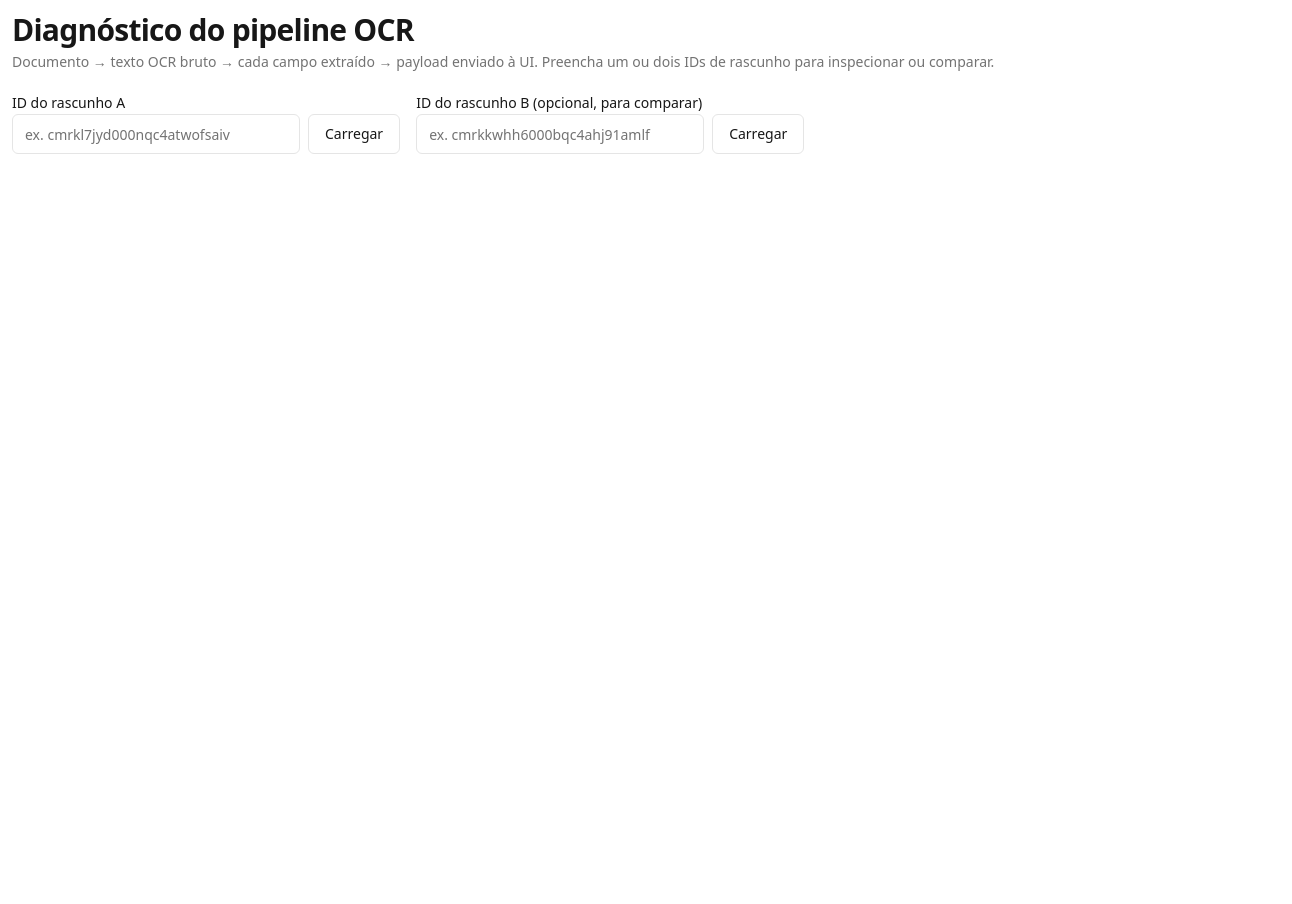
InvoiceDraftDebugPage (Fase 6.8+) › carrega e mostra o pipeline completo para um rascunho ao introduzir o ID
Type "draft-1" into the field with placeholder "ex. cmrkl7jyd000nqc4atwofsaiv". click: (156, 134)
box: [12,114,300,154]
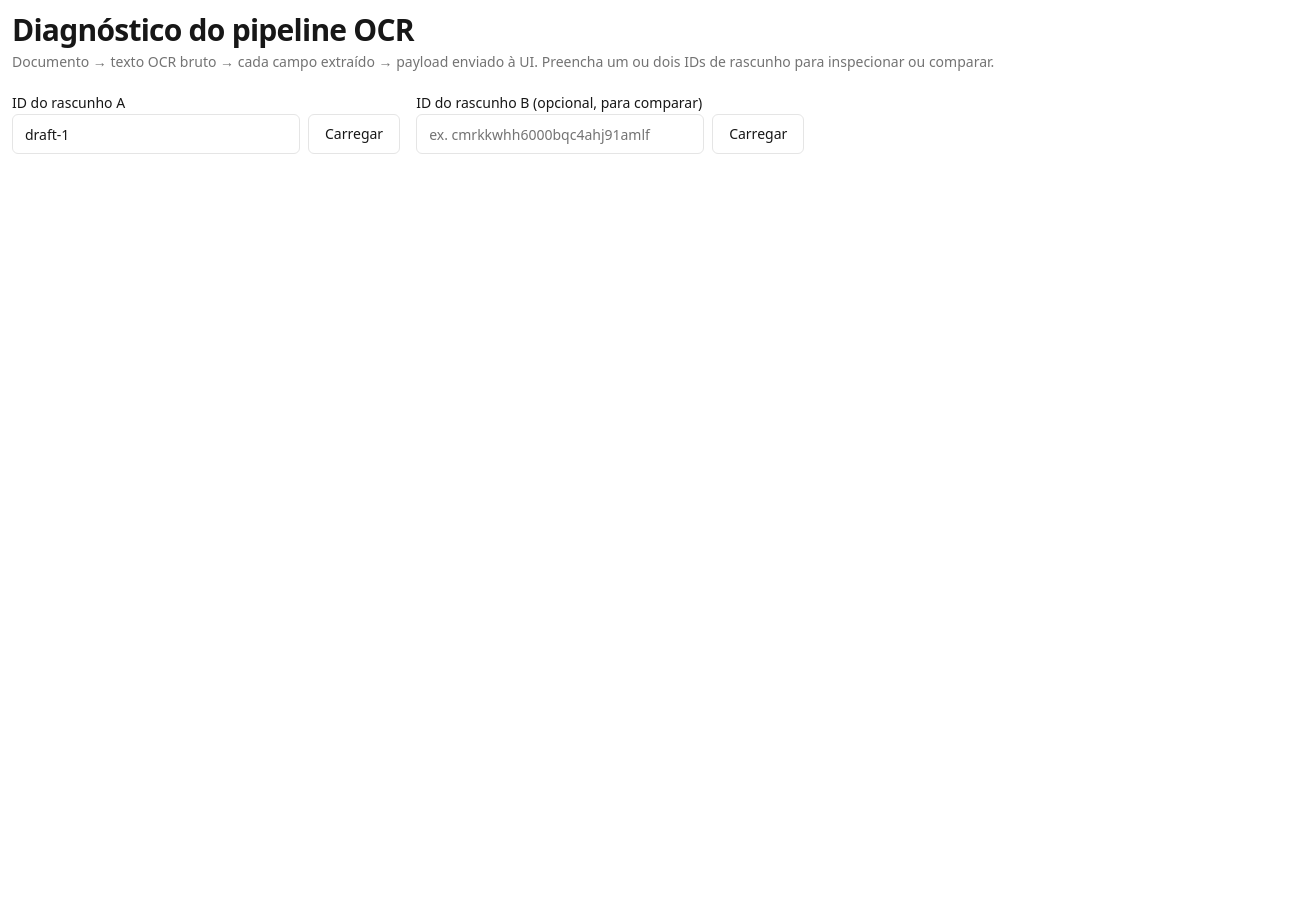
Click the button "Carregar" below "ID do rascunho A". click: click(354, 134)
box: [308,114,400,154]
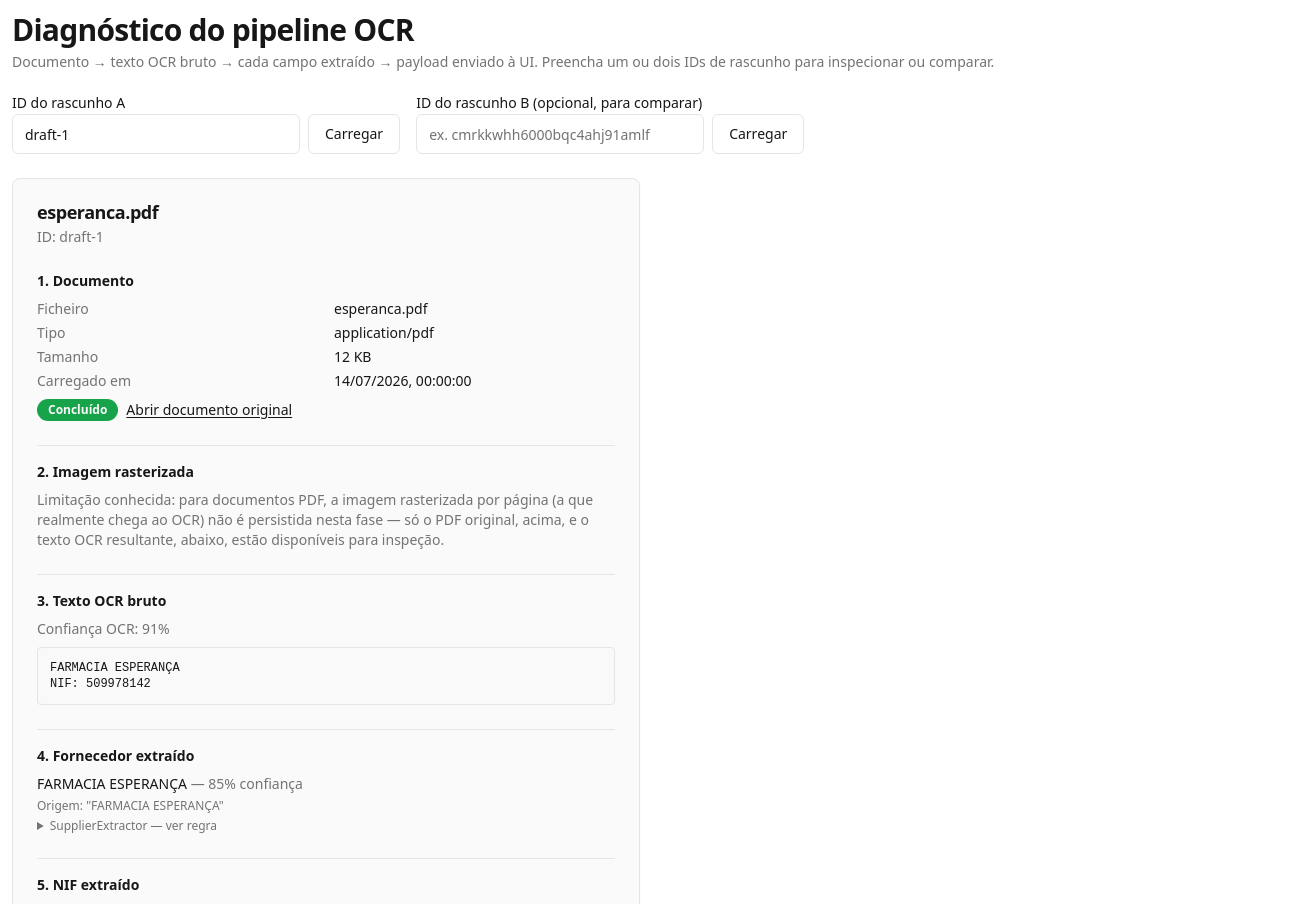
Expected: the heading "esperanca.pdf" is shown, [37,200,158,224]
Expected: the text "FARMACIA ESPERANÇA NIF: 509978142" is shown, [37,647,615,705]
